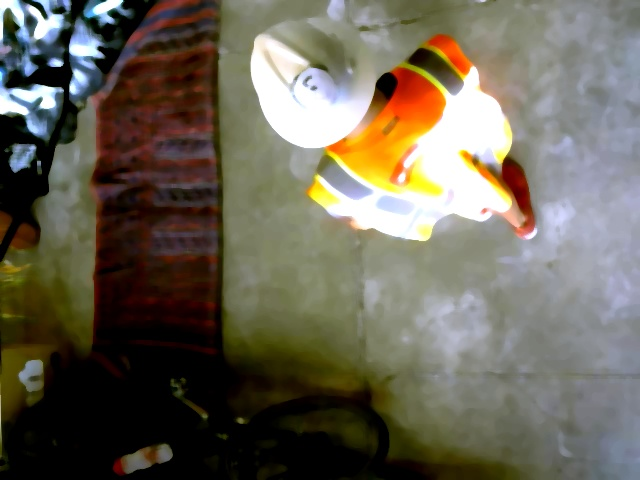three: (291, 65, 337, 109)
